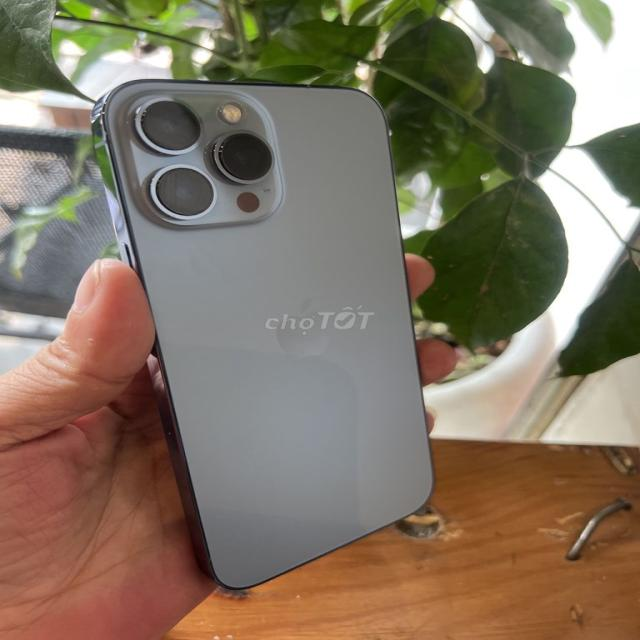gen_12_13: (92, 80, 432, 588)
